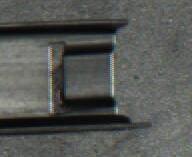press: (17, 18, 147, 130)
